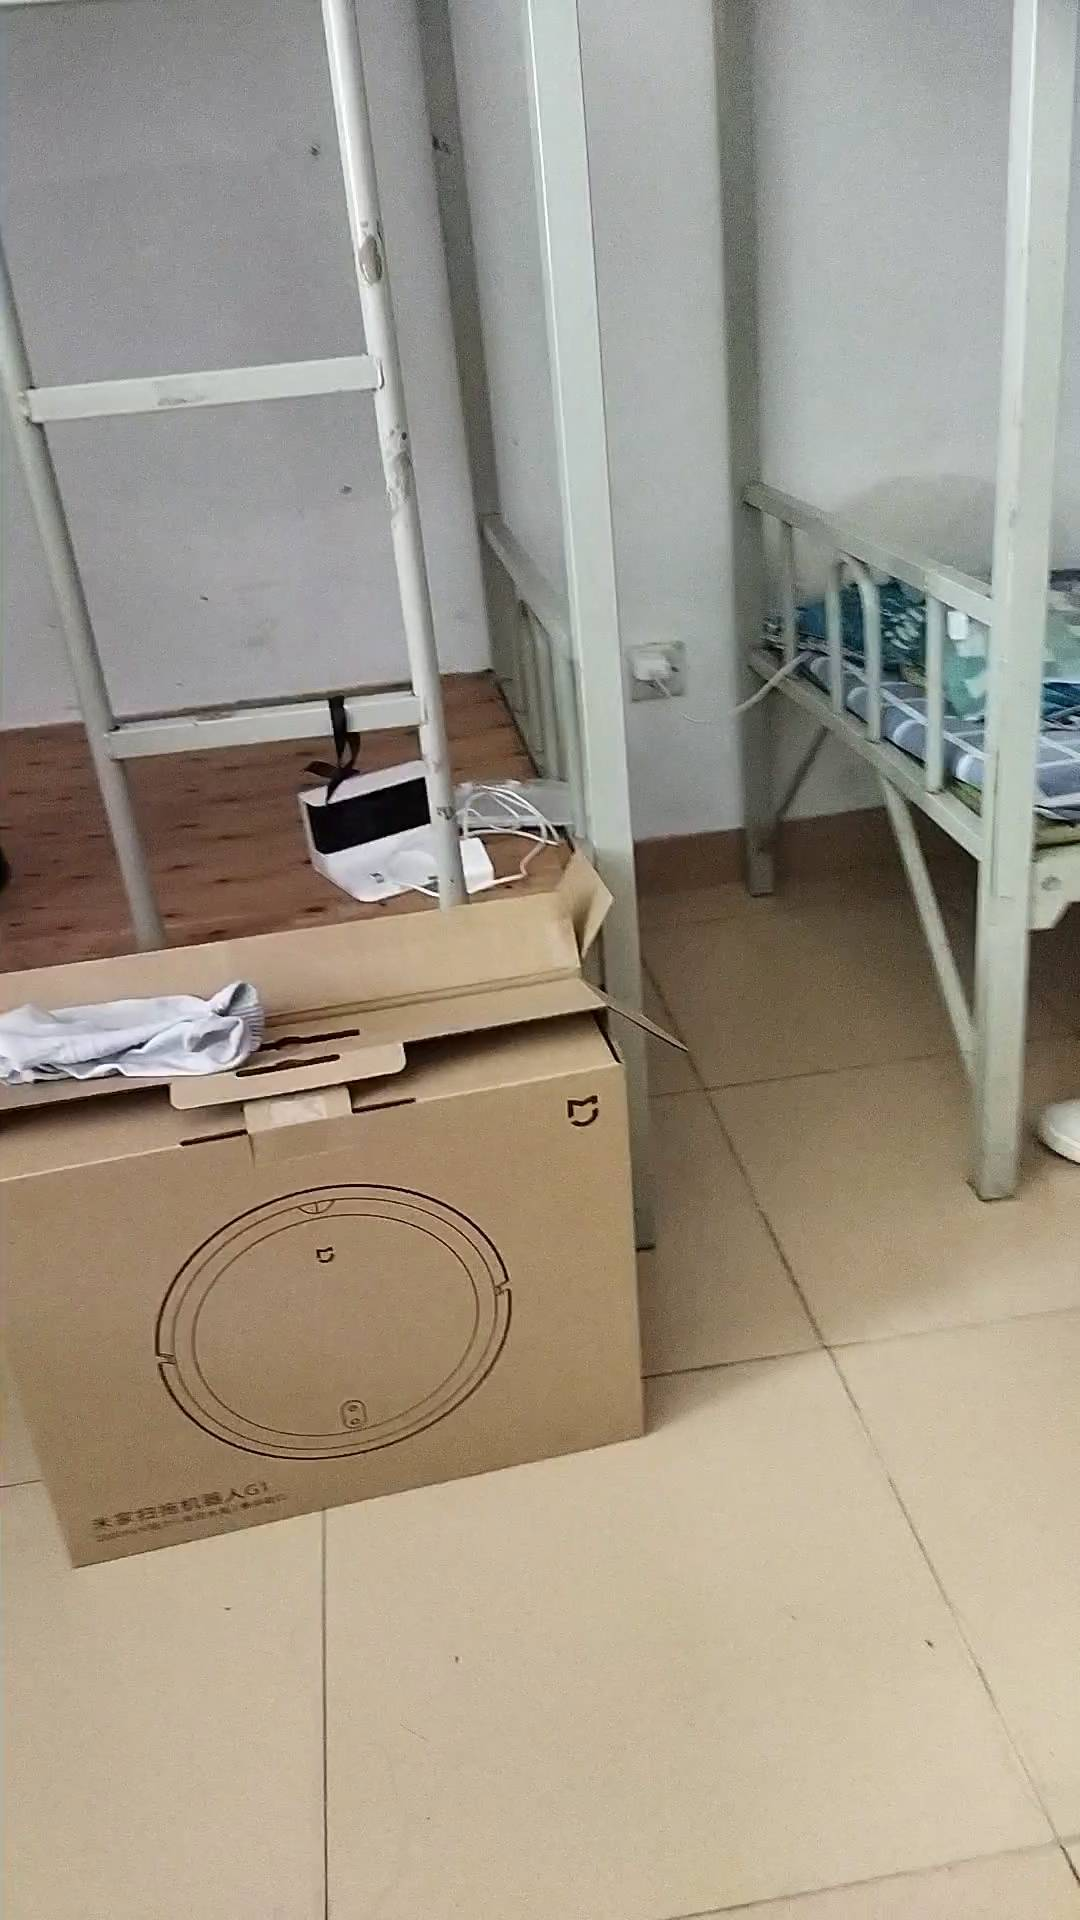recharge seat: (301, 760, 465, 905)
